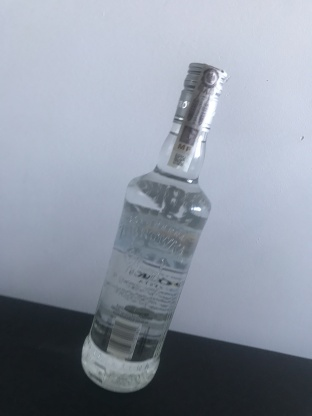nakretka: (170, 57, 229, 136)
